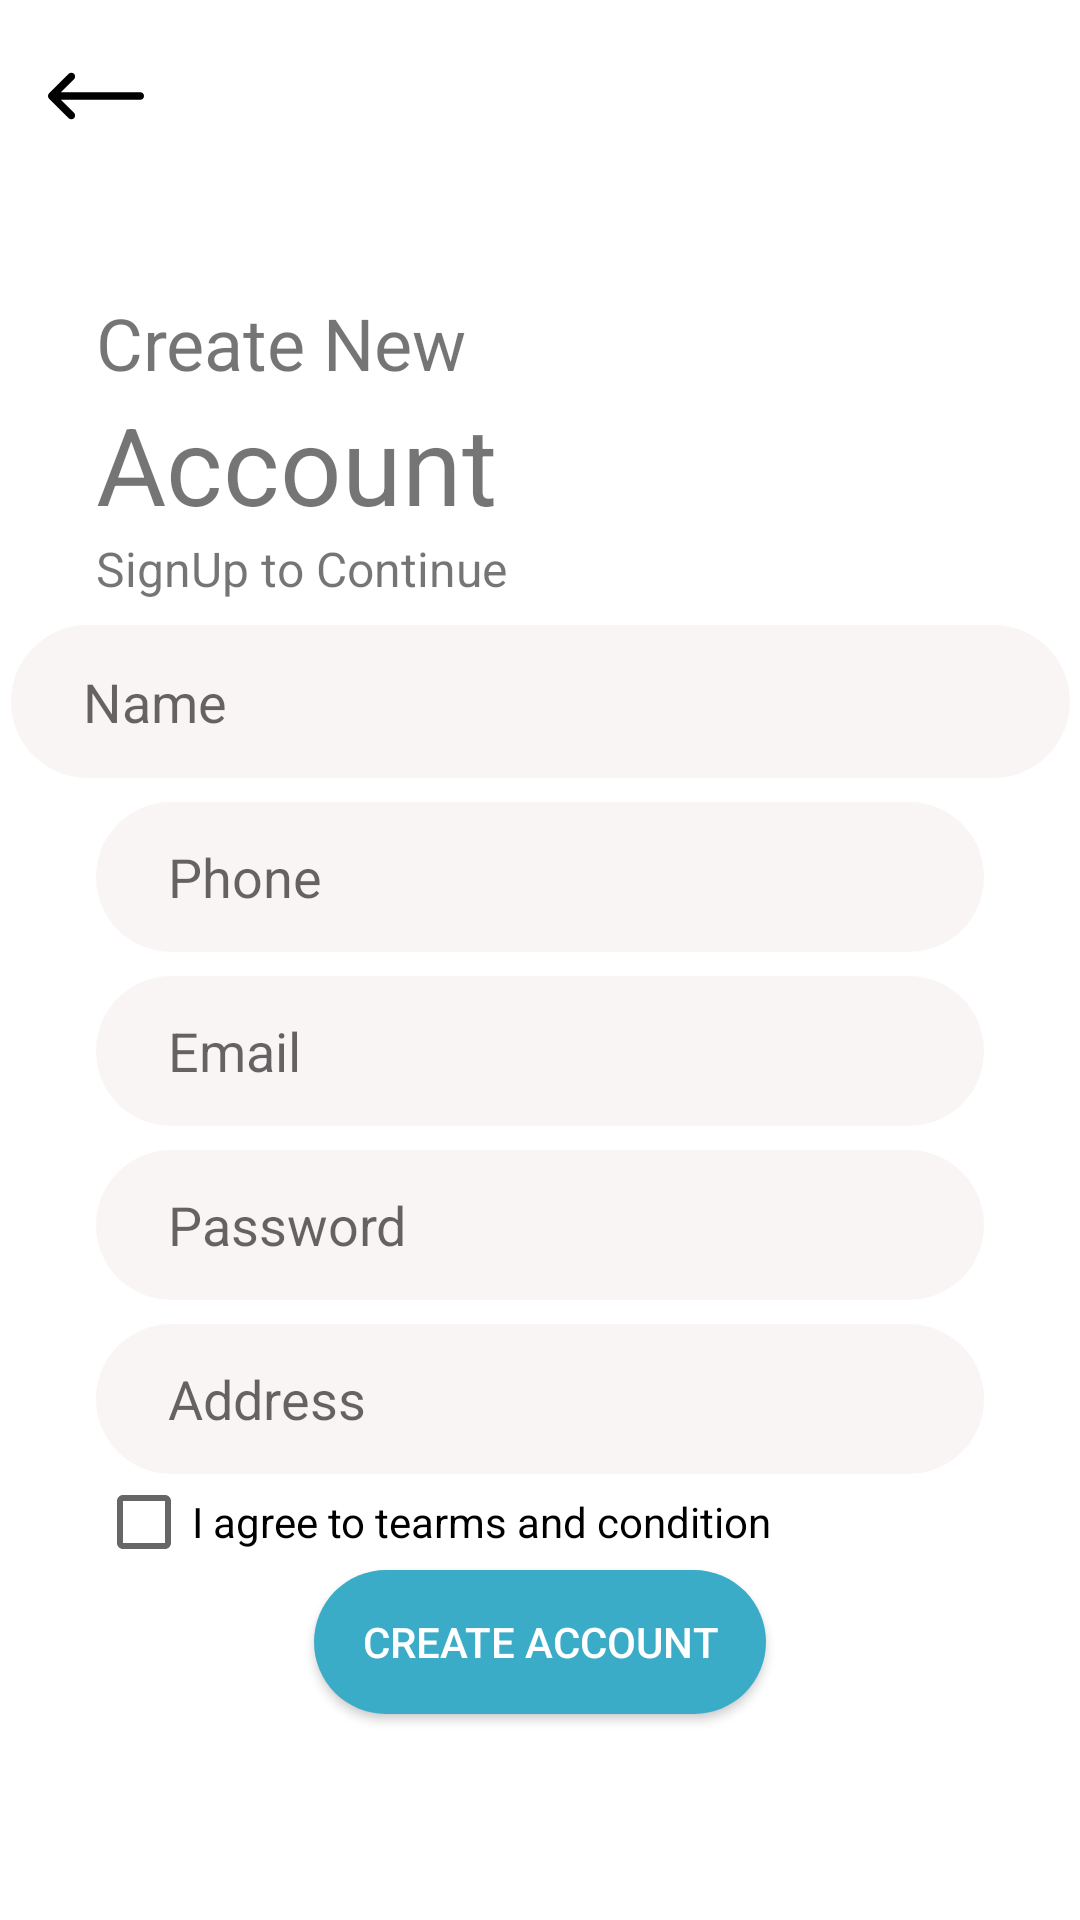

Named icons in this screenshot (1080px x 1920px) and their bounding boxes, Rect(x1, y1, x2, y2):
arrows: Rect(48, 72, 144, 120)
